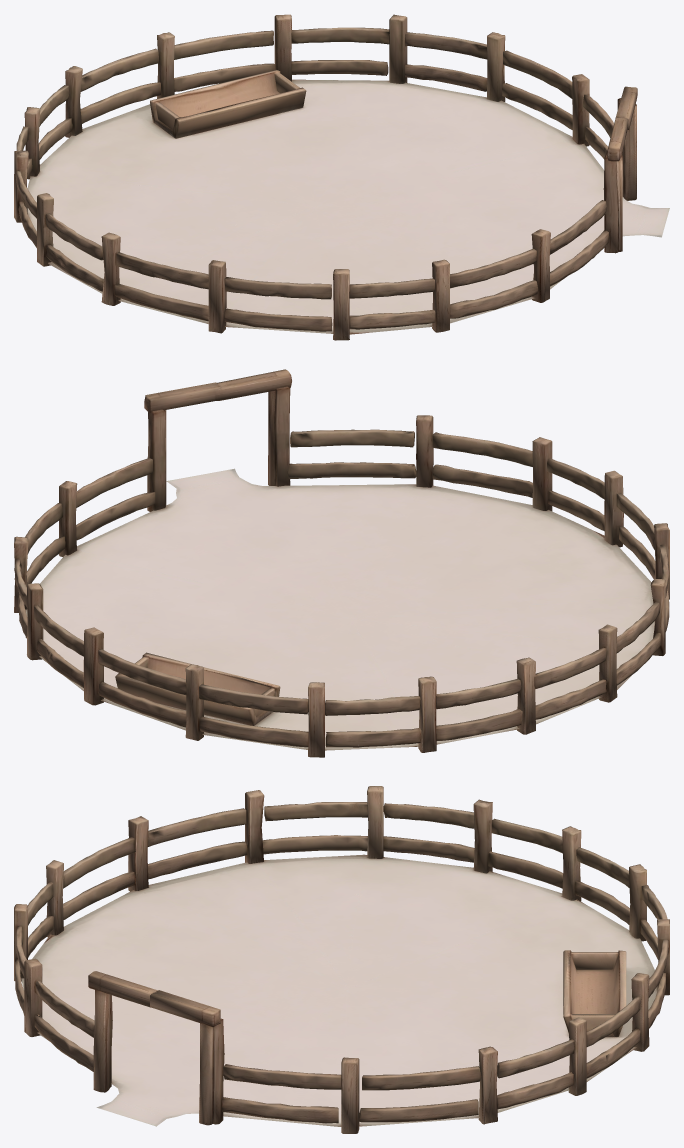
The picture shows the model from 3 angles, top to bottom: view 1: azimuth 30°, elevation 25°; view 2: azimuth 150°, elevation 25°; view 3: azimuth 270°, elevation 25°; orthographic projection. The views are drawn at different scales.
Parts seen in each view (by area): view 1: tripo_node_245eacb6; view 2: tripo_node_245eacb6; view 3: tripo_node_245eacb6.
Boxes of the visible parts, left/top/right/bottom form: tripo_node_245eacb6: left=14, top=14, right=669, bottom=340; tripo_node_245eacb6: left=14, top=369, right=669, bottom=757; tripo_node_245eacb6: left=14, top=786, right=669, bottom=1133.
Bounding box in the file's own units: 0.998 × 0.1934 × 0.998.
